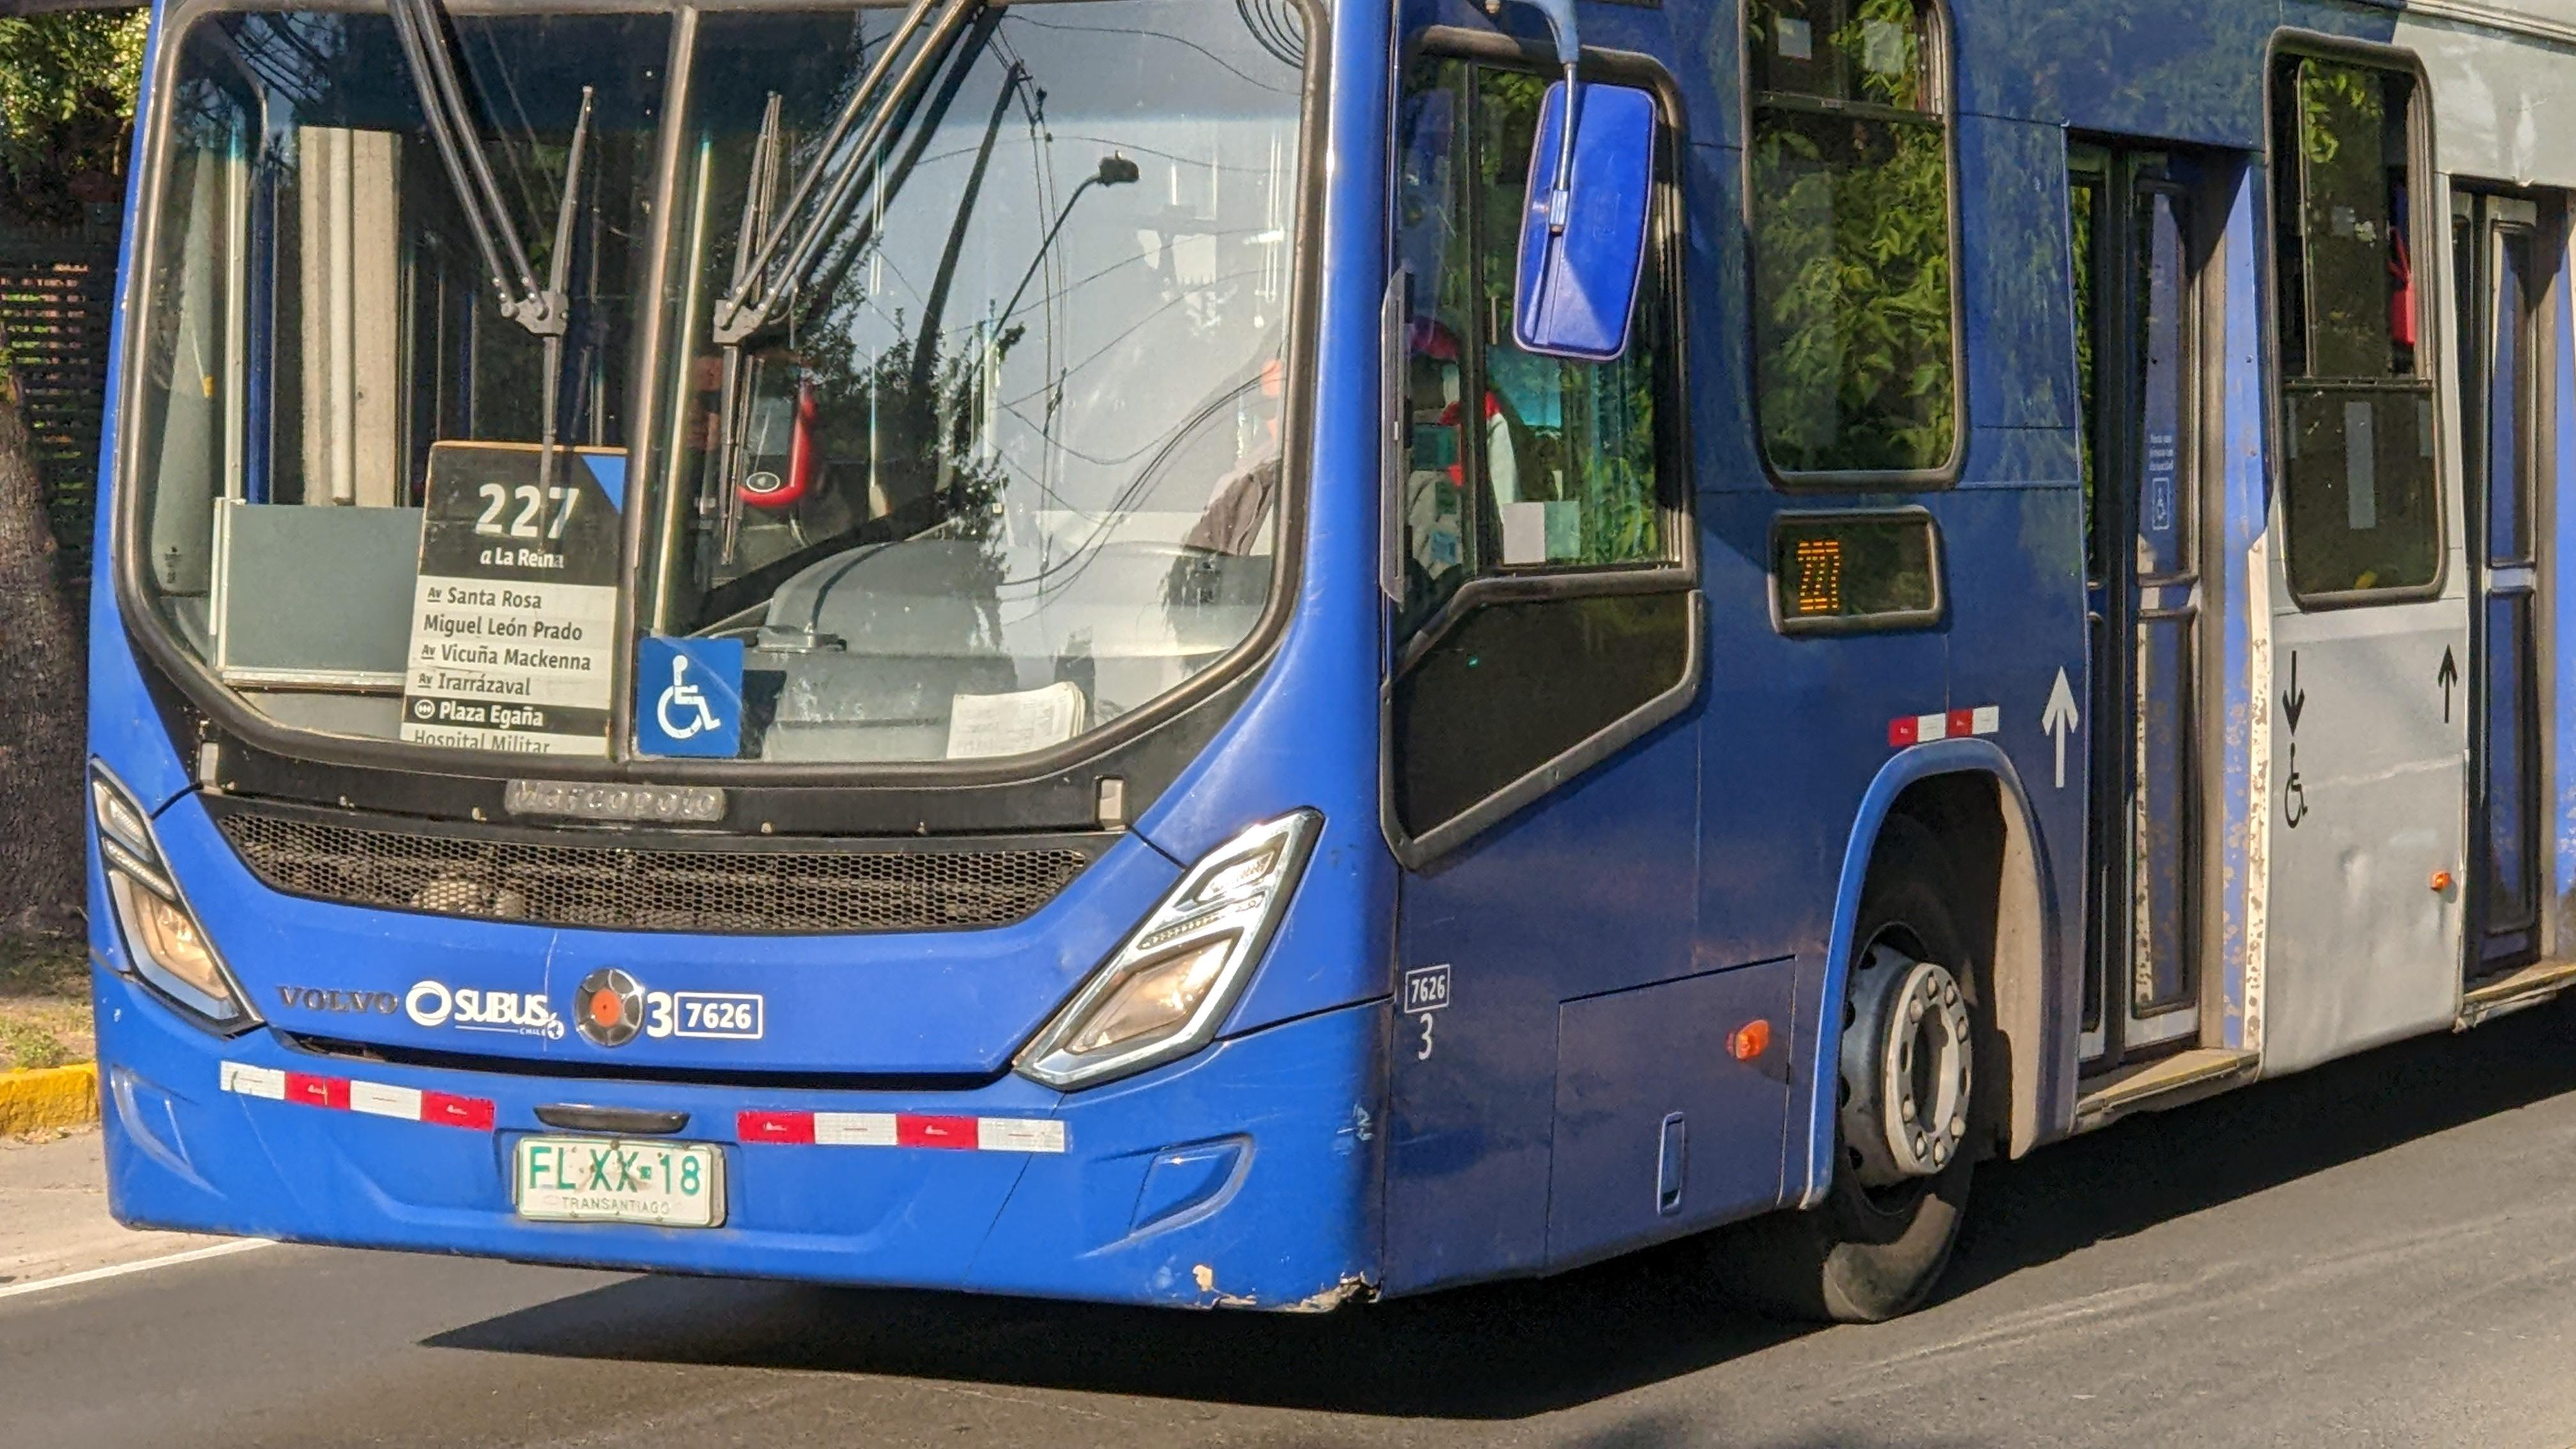handicapped symbol: (653, 653, 722, 741), (2282, 741, 2312, 832), (2153, 485, 2169, 525)
up arrow: (2040, 663, 2082, 791), (2281, 648, 2309, 738), (2436, 642, 2459, 725)
